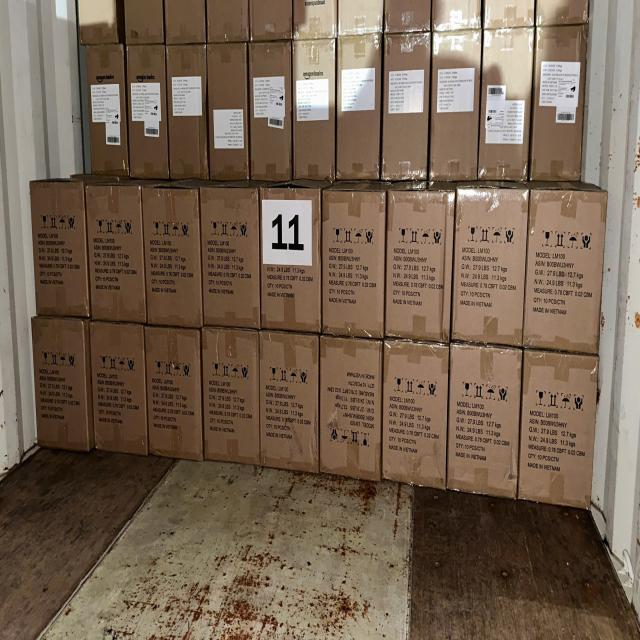Carton: (529, 190, 606, 354), (454, 186, 528, 347), (523, 350, 599, 504), (451, 345, 523, 497), (322, 191, 388, 338), (384, 342, 449, 489), (388, 192, 450, 340), (260, 190, 324, 332), (321, 338, 384, 482), (82, 185, 146, 326), (144, 190, 207, 329), (257, 336, 320, 474), (201, 188, 262, 330), (31, 180, 91, 317), (32, 316, 92, 451), (199, 328, 259, 462), (147, 330, 206, 462), (89, 322, 147, 454)
